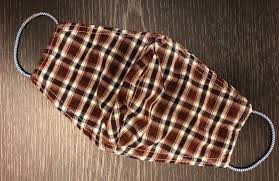cloth_mask: (11, 8, 279, 175)
